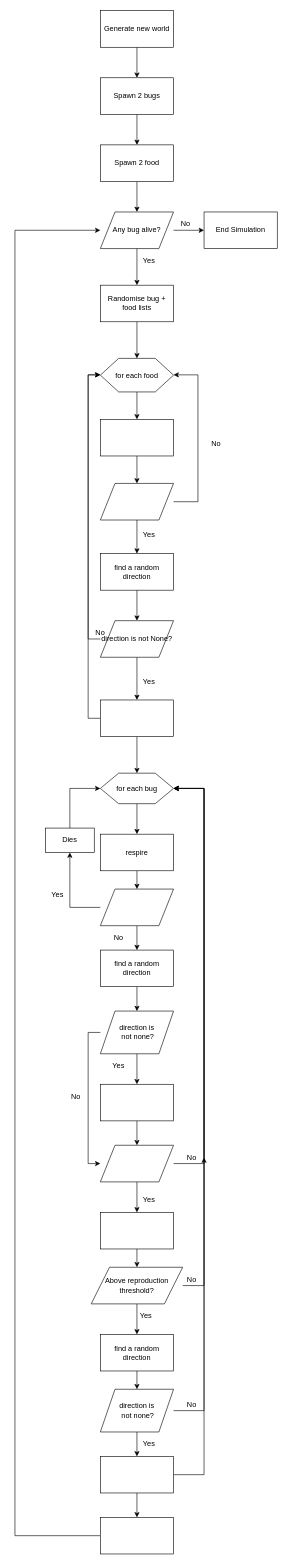
Some shapes in this 288 by 1565 pixel diagram are drawn without their labels. The shapes that lost their labels are listed below. From the top down, each one's centre as x and y in pixels, then its label:
At (x=137, y=437): "grow()".
At (x=137, y=501): "At reproduction Threshold?".
At (x=137, y=718): "Reproduce (and append to food list)".
At (x=137, y=907): "Energy <= 0?".
At (x=137, y=1102): "move to new position".
At (x=137, y=1163): "Food?".
At (x=137, y=1230): "Eat".
At (x=137, y=1474): "Reproduce".
At (x=137, y=1535): "World Time+1".
